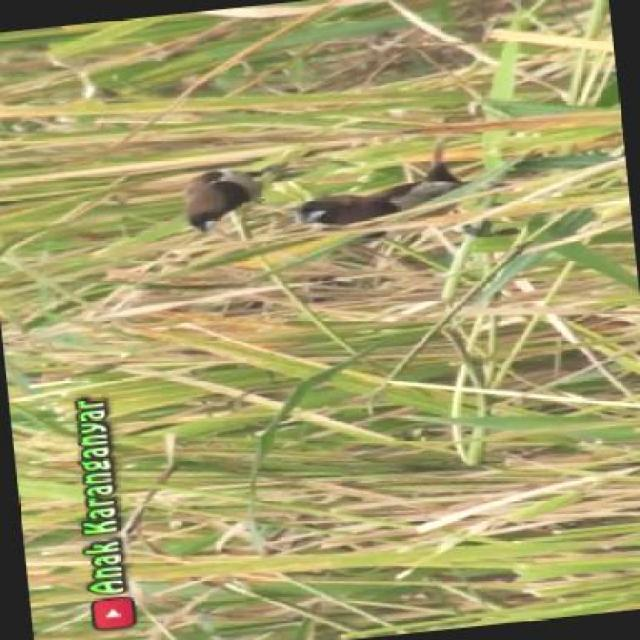Bird: (183, 163, 293, 236), (373, 158, 469, 211), (301, 195, 402, 226)
